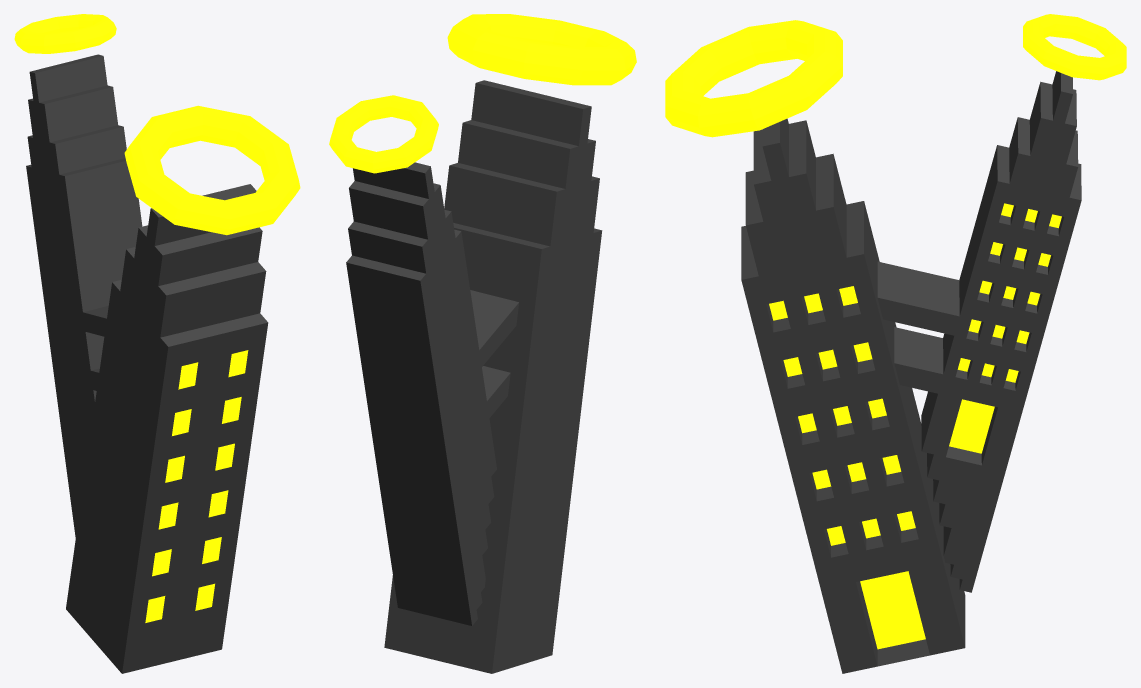
The model's file is Buildings.fbx.
The picture shows the model from 3 angles, left to right: view 1: azimuth 30°, elevation 25°; view 2: azimuth 150°, elevation 25°; view 3: azimuth 270°, elevation 25°; orthographic projection. The views are drawn at different scales.
Visible parts, largest first — view 1: JoinedBuildings, Rings; view 2: JoinedBuildings, Rings; view 3: JoinedBuildings, Rings.
Part boxes in pixels (x1,y1,x2,y2): JoinedBuildings: [26, 54, 268, 673]; Rings: [14, 14, 300, 235]; JoinedBuildings: [346, 80, 602, 673]; Rings: [329, 14, 636, 173]; JoinedBuildings: [741, 71, 1081, 673]; Rings: [665, 14, 1126, 137].
Size of the model in its own units: 484 by 1692 by 1140.
